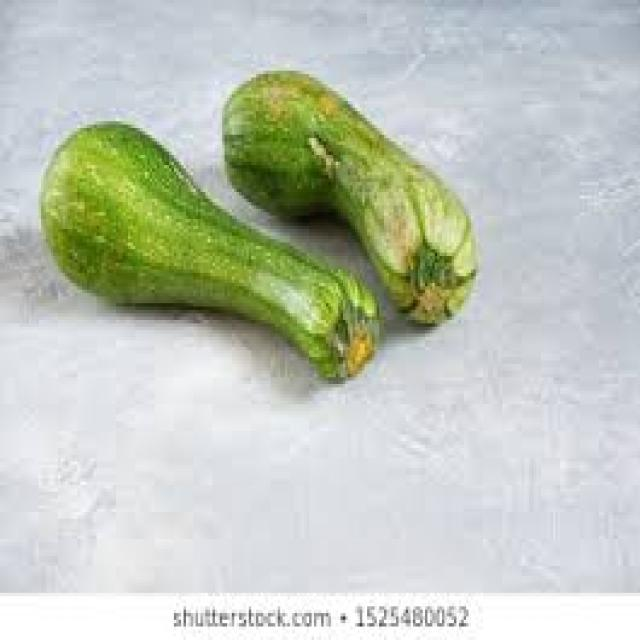organic waste: (36, 118, 377, 377), (220, 64, 473, 327)
